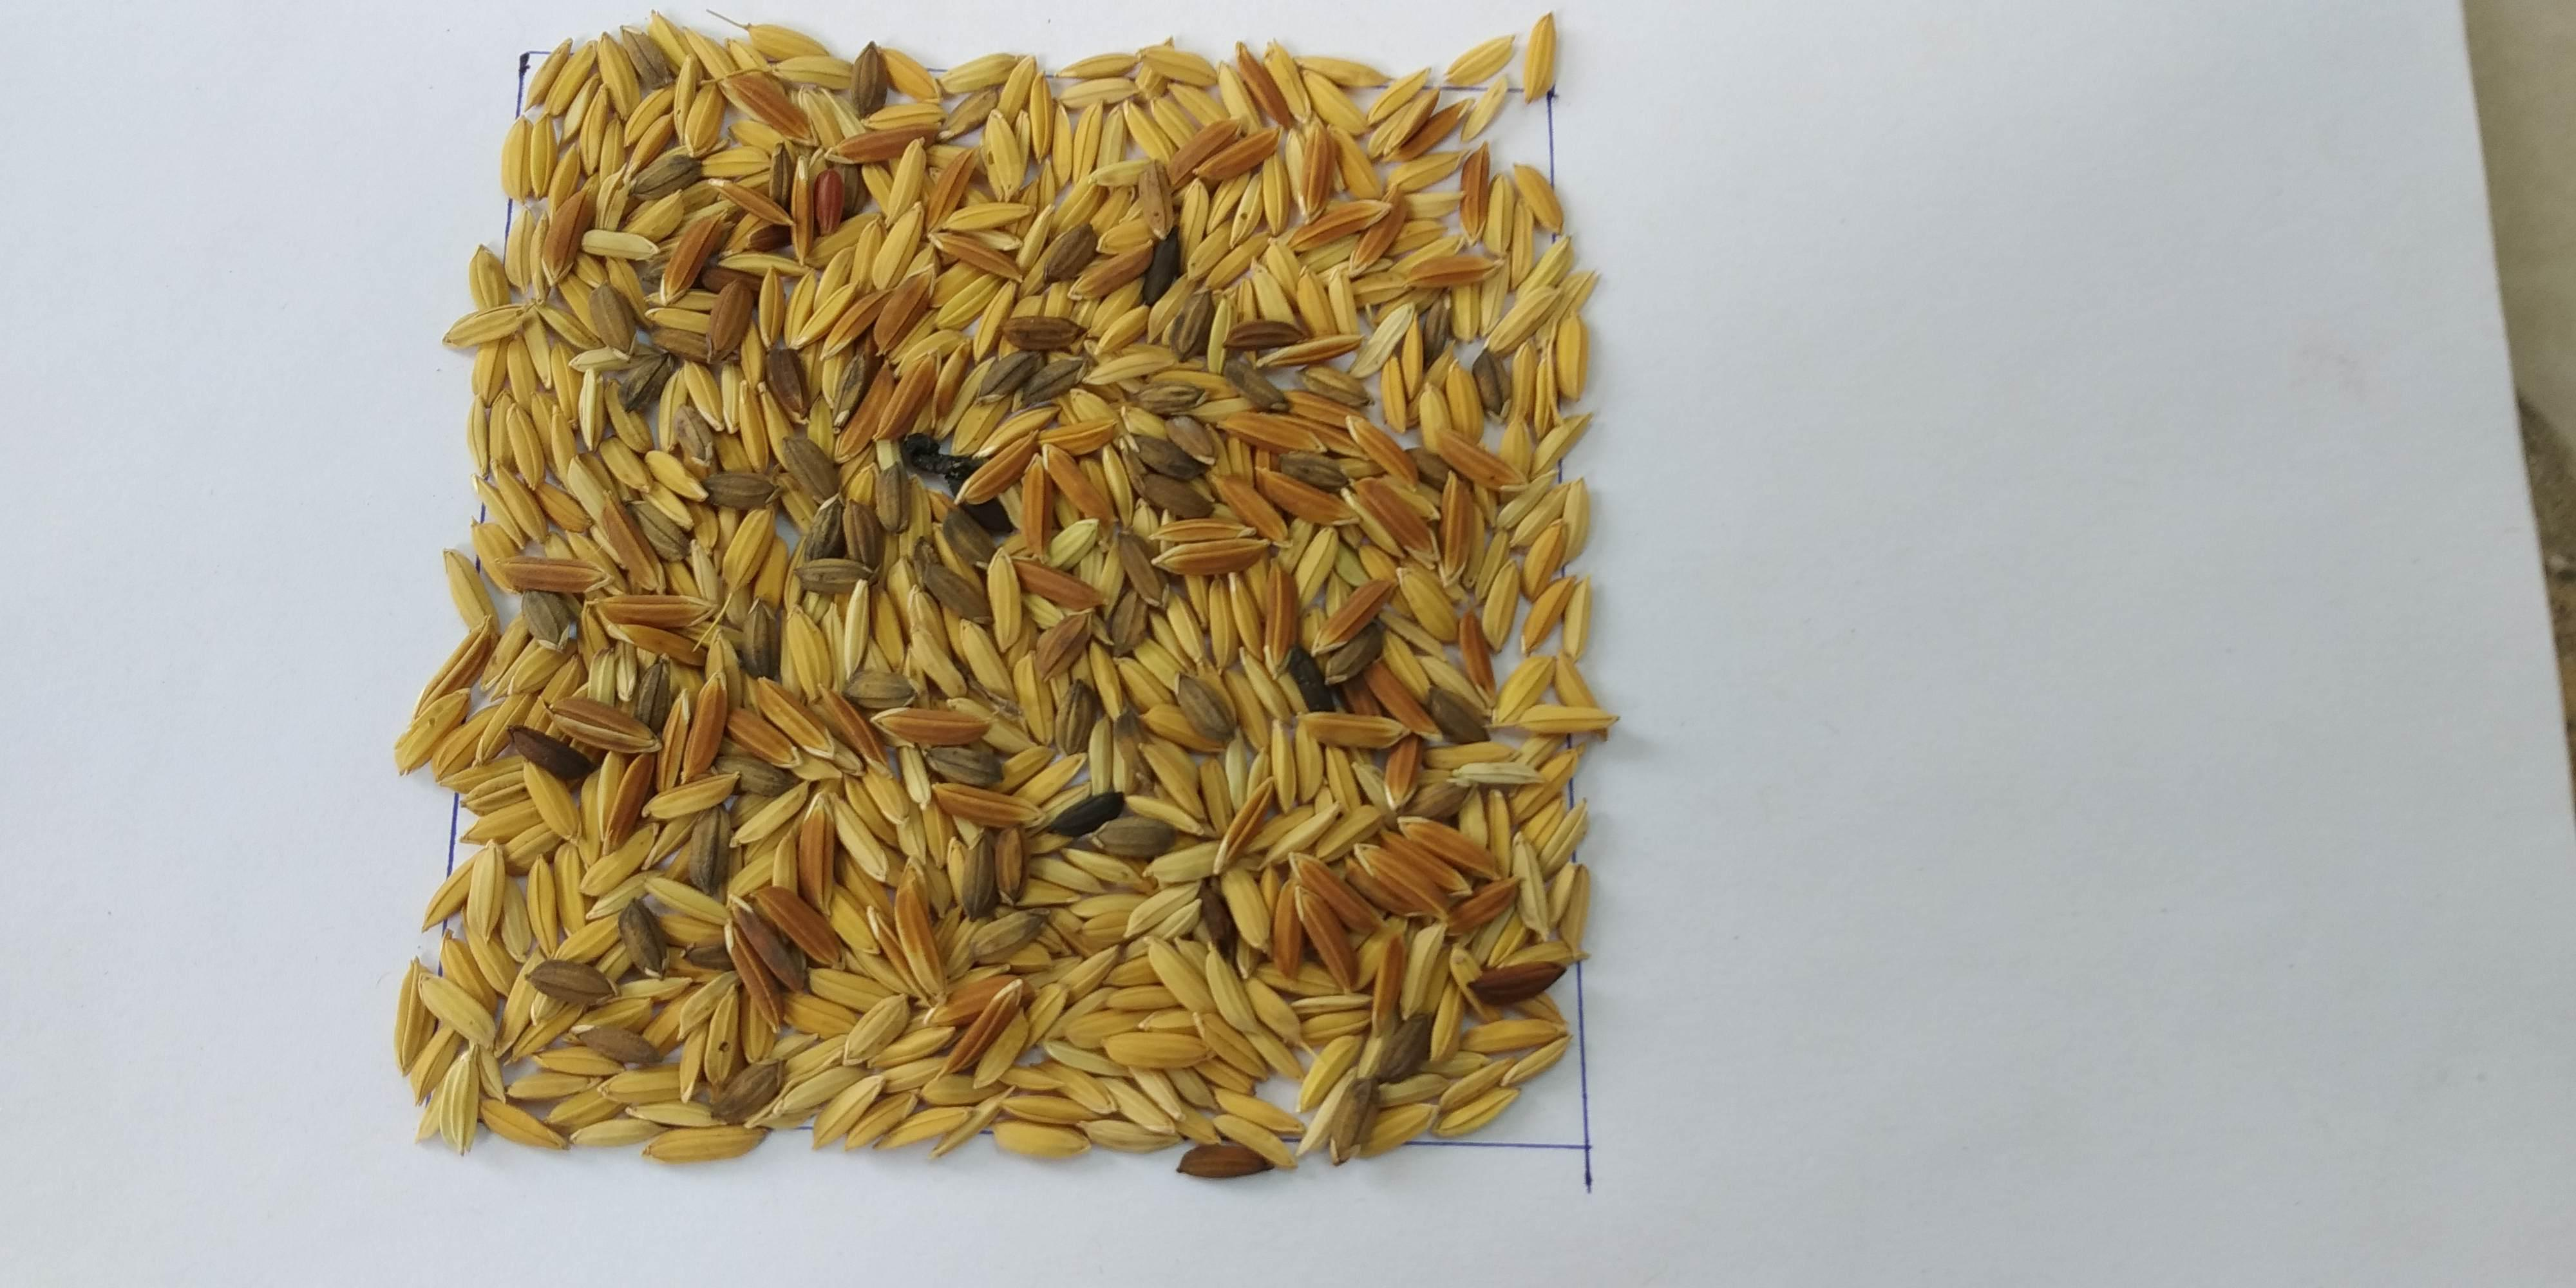impure: (529, 72, 1474, 1078)
